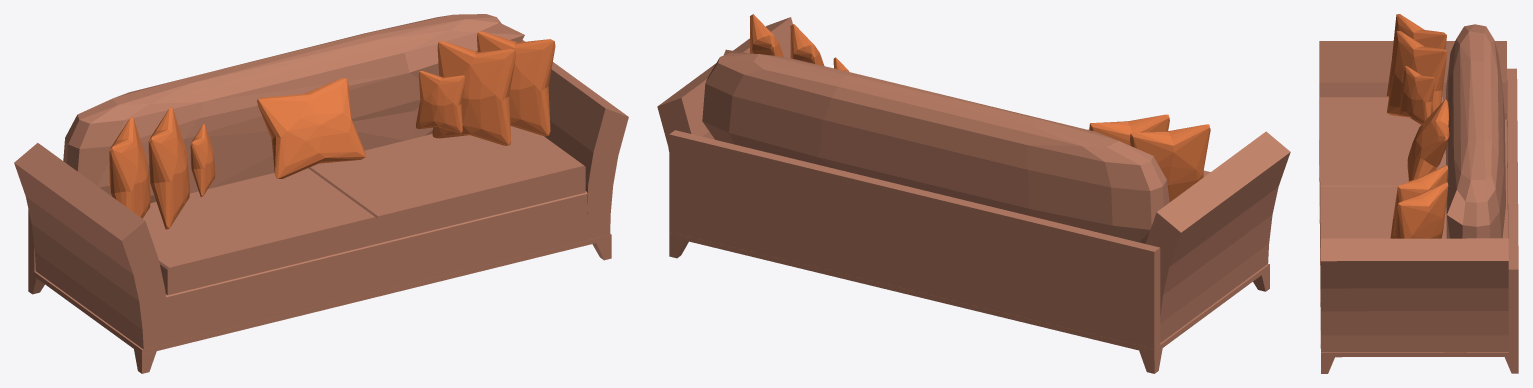
File: Accesories_Sofa_Large.003.glb
The picture shows the model from 3 angles, left to right: view 1: azimuth 30°, elevation 25°; view 2: azimuth 150°, elevation 25°; view 3: azimuth 270°, elevation 25°; orthographic projection. The views are drawn at different scales.
Visible parts, largest first — view 1: Accesories_Sofa_Large.003; view 2: Accesories_Sofa_Large.003; view 3: Accesories_Sofa_Large.003.
Part boxes in pixels (bbox=[...]): Accesories_Sofa_Large.003: bbox=[14, 14, 628, 373]; Accesories_Sofa_Large.003: bbox=[657, 14, 1290, 373]; Accesories_Sofa_Large.003: bbox=[1319, 14, 1518, 373].
Bounding box in the file's own units: 2.38 × 0.8714 × 0.9225.
Materials: 1 (1 with a texture image).
